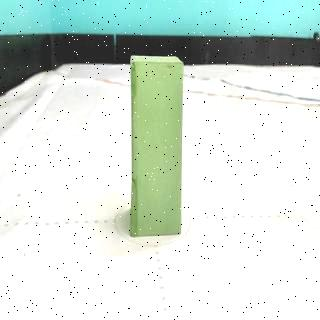greenbox: (128, 54, 186, 237)
